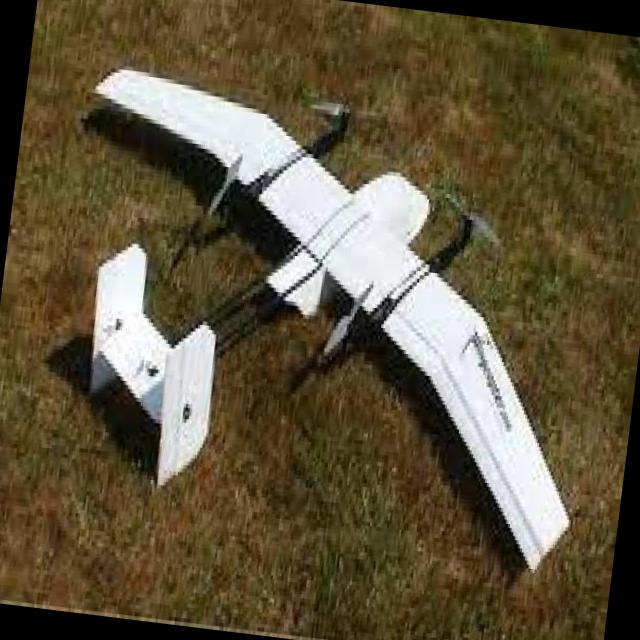UAV: (29, 47, 592, 576)
